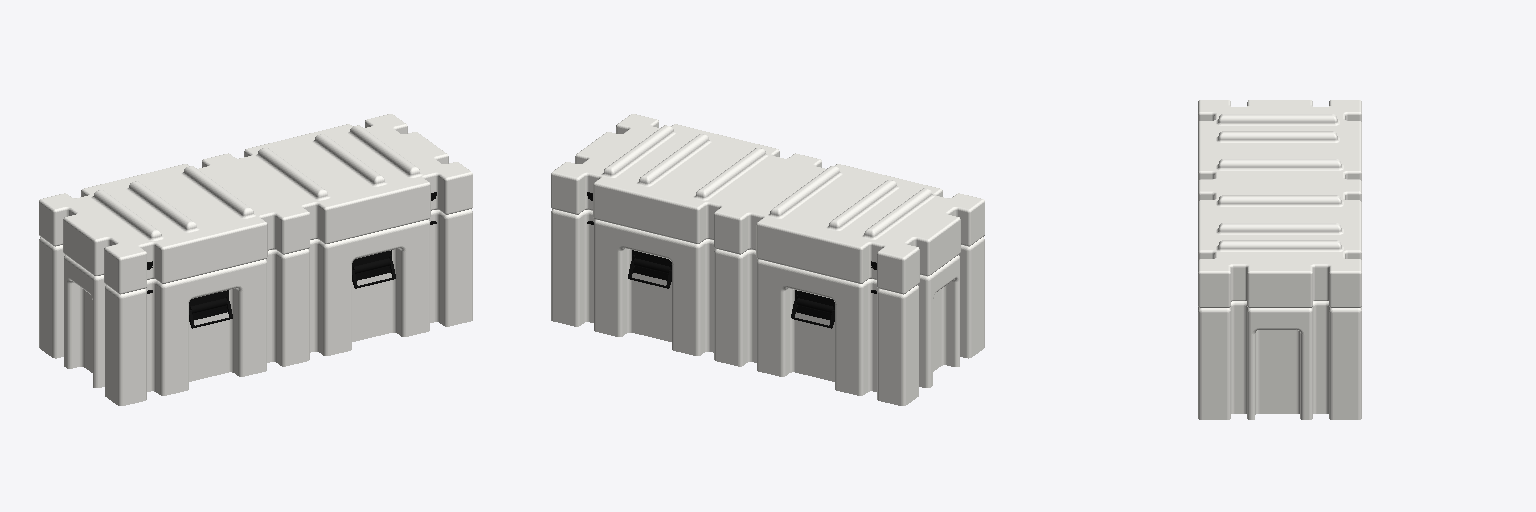
File: Ammo Crate Base v6.obj
The picture shows the model from 3 angles: view 1: azimuth 30°, elevation 25°; view 2: azimuth 150°, elevation 25°; view 3: azimuth 270°, elevation 25°; orthographic projection.
Parts seen in each view (by area): view 1: Ammo Crate Top v4:1, Ammo Crate Handle v1:2, Ammo Crate Handle v1:1; view 2: Ammo Crate Top v4:1, Ammo Crate Handle v1:3, Ammo Crate Handle v1:4; view 3: Ammo Crate Top v4:1.
Boxes of the visible parts, x1=… form: Ammo Crate Top v4:1: x1=39, y1=114, x2=472, y2=294; Ammo Crate Handle v1:2: x1=352, y1=250, x2=395, y2=288; Ammo Crate Handle v1:1: x1=189, y1=290, x2=232, y2=328; Ammo Crate Top v4:1: x1=551, y1=114, x2=984, y2=294; Ammo Crate Handle v1:3: x1=628, y1=250, x2=671, y2=288; Ammo Crate Handle v1:4: x1=791, y1=290, x2=834, y2=328; Ammo Crate Top v4:1: x1=1198, y1=100, x2=1361, y2=307.
Size of the model in its own units: 50.01 by 21 by 20.01.